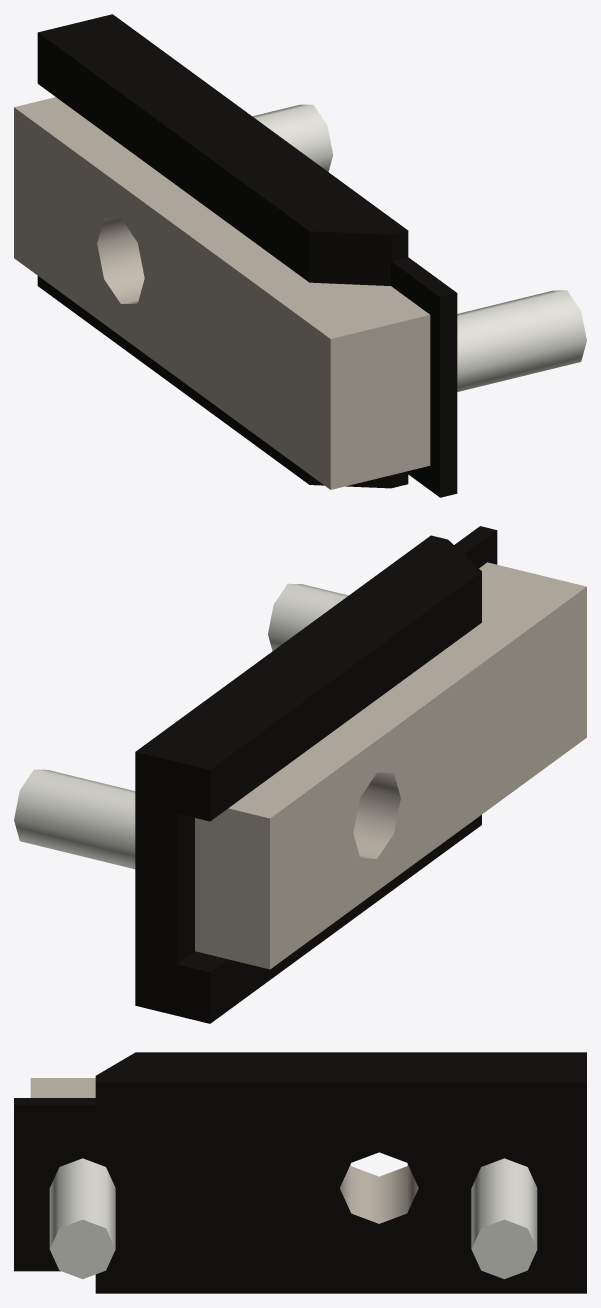
3 renders of one model, top to bottom at view 1: azimuth 30°, elevation 25°; view 2: azimuth 150°, elevation 25°; view 3: azimuth 270°, elevation 25°, orthographic. The views are drawn at different scales.
Parts seen in each view (by area): view 1: bau0025466148; view 2: bau0025466148; view 3: bau0025466148.
Boxes of the visible parts, left/top/right/bottom form: bau0025466148: left=14, top=14, right=586, bottom=497; bau0025466148: left=14, top=526, right=586, bottom=1023; bau0025466148: left=14, top=1052, right=586, bottom=1293.
Size of the model in its own units: 19.5 by 17.65 by 43.48.
